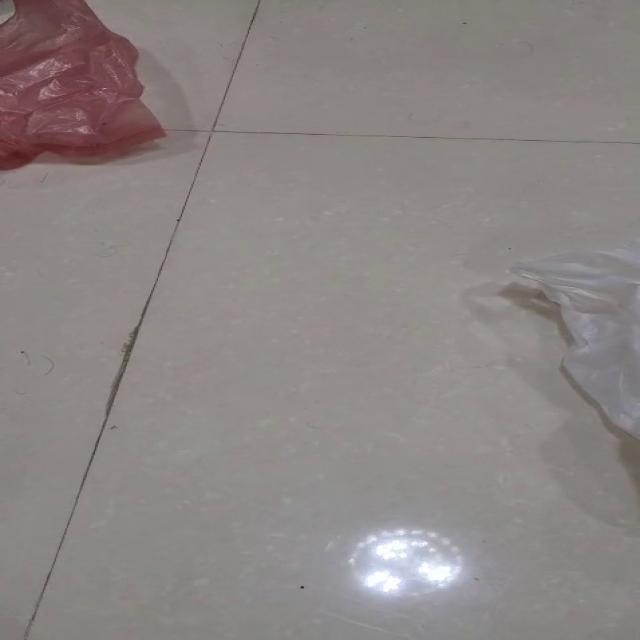plastic: (0, 0, 167, 171), (508, 246, 638, 441)
